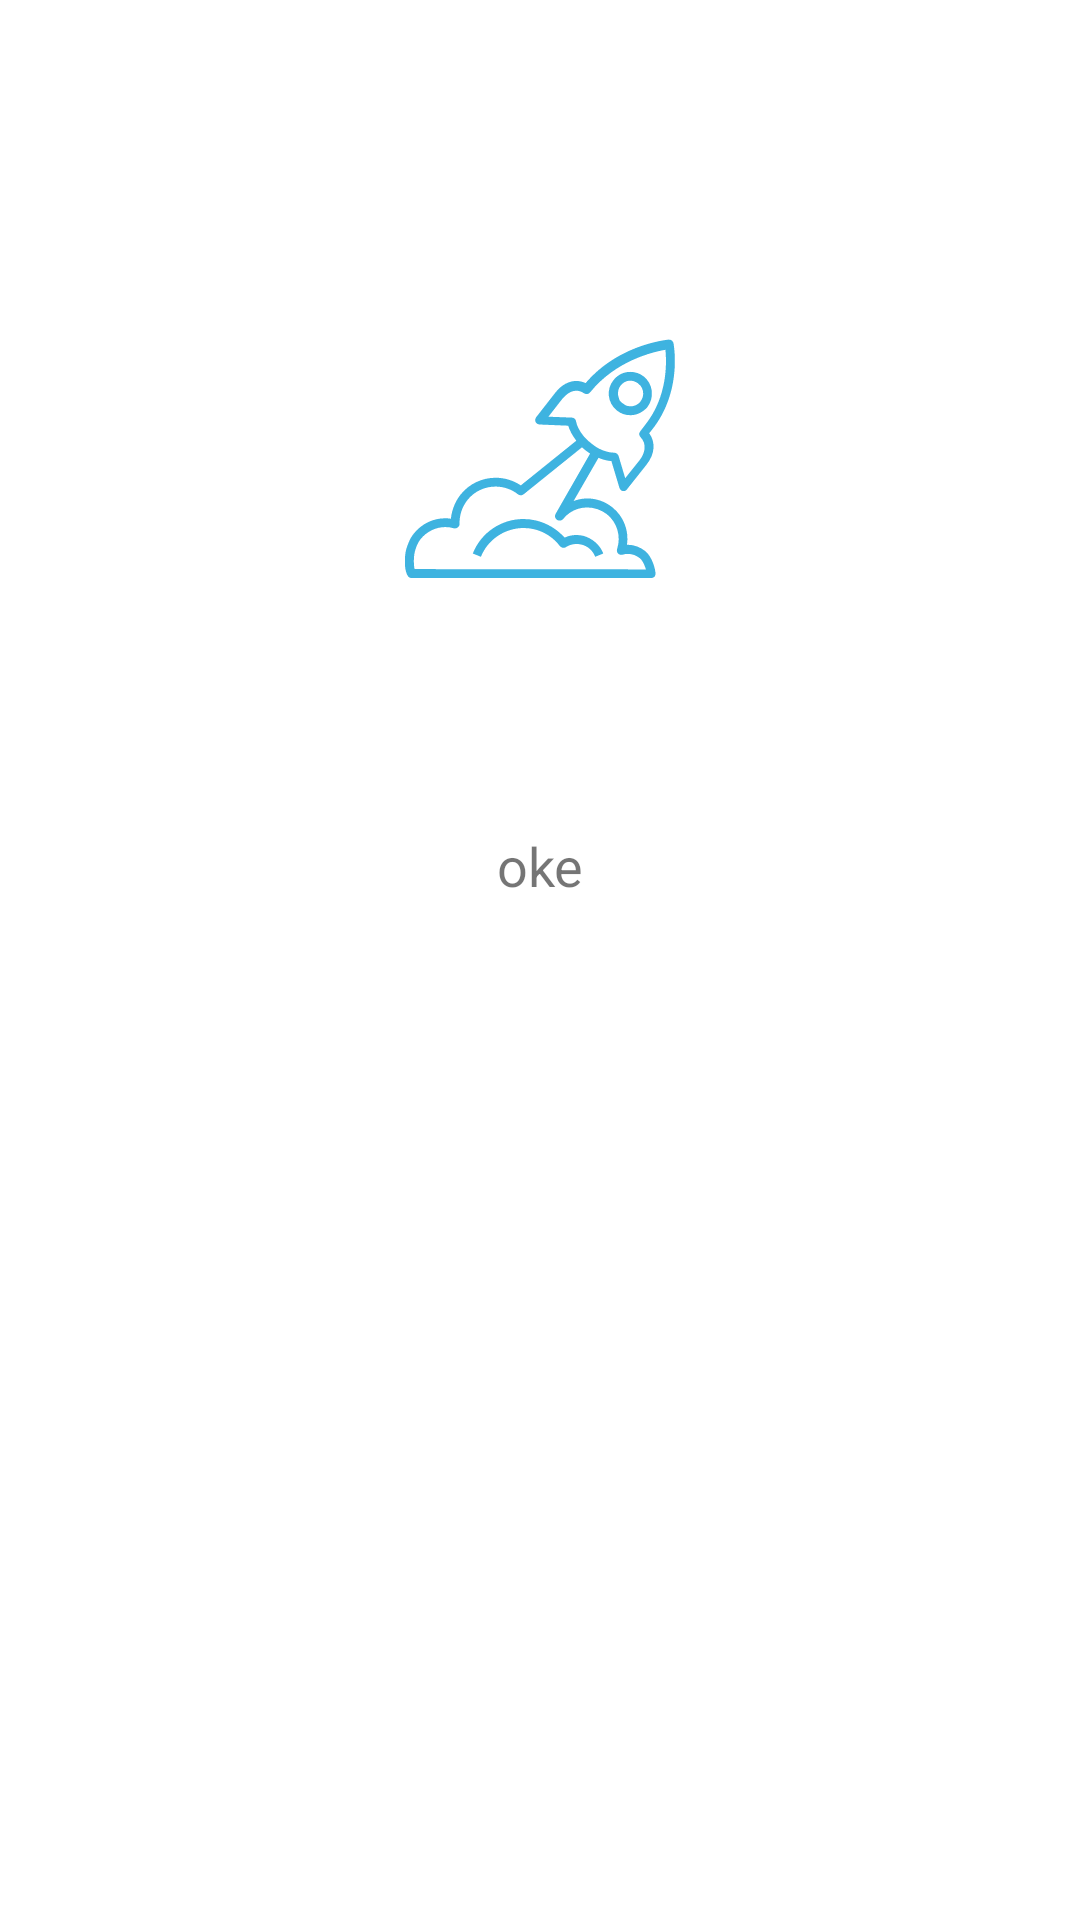

Icon bounding boxes for this 1080px x 1920px phone screenshot, format region(x1, y1, x2, y2):
rocket: region(405, 339, 675, 578)
